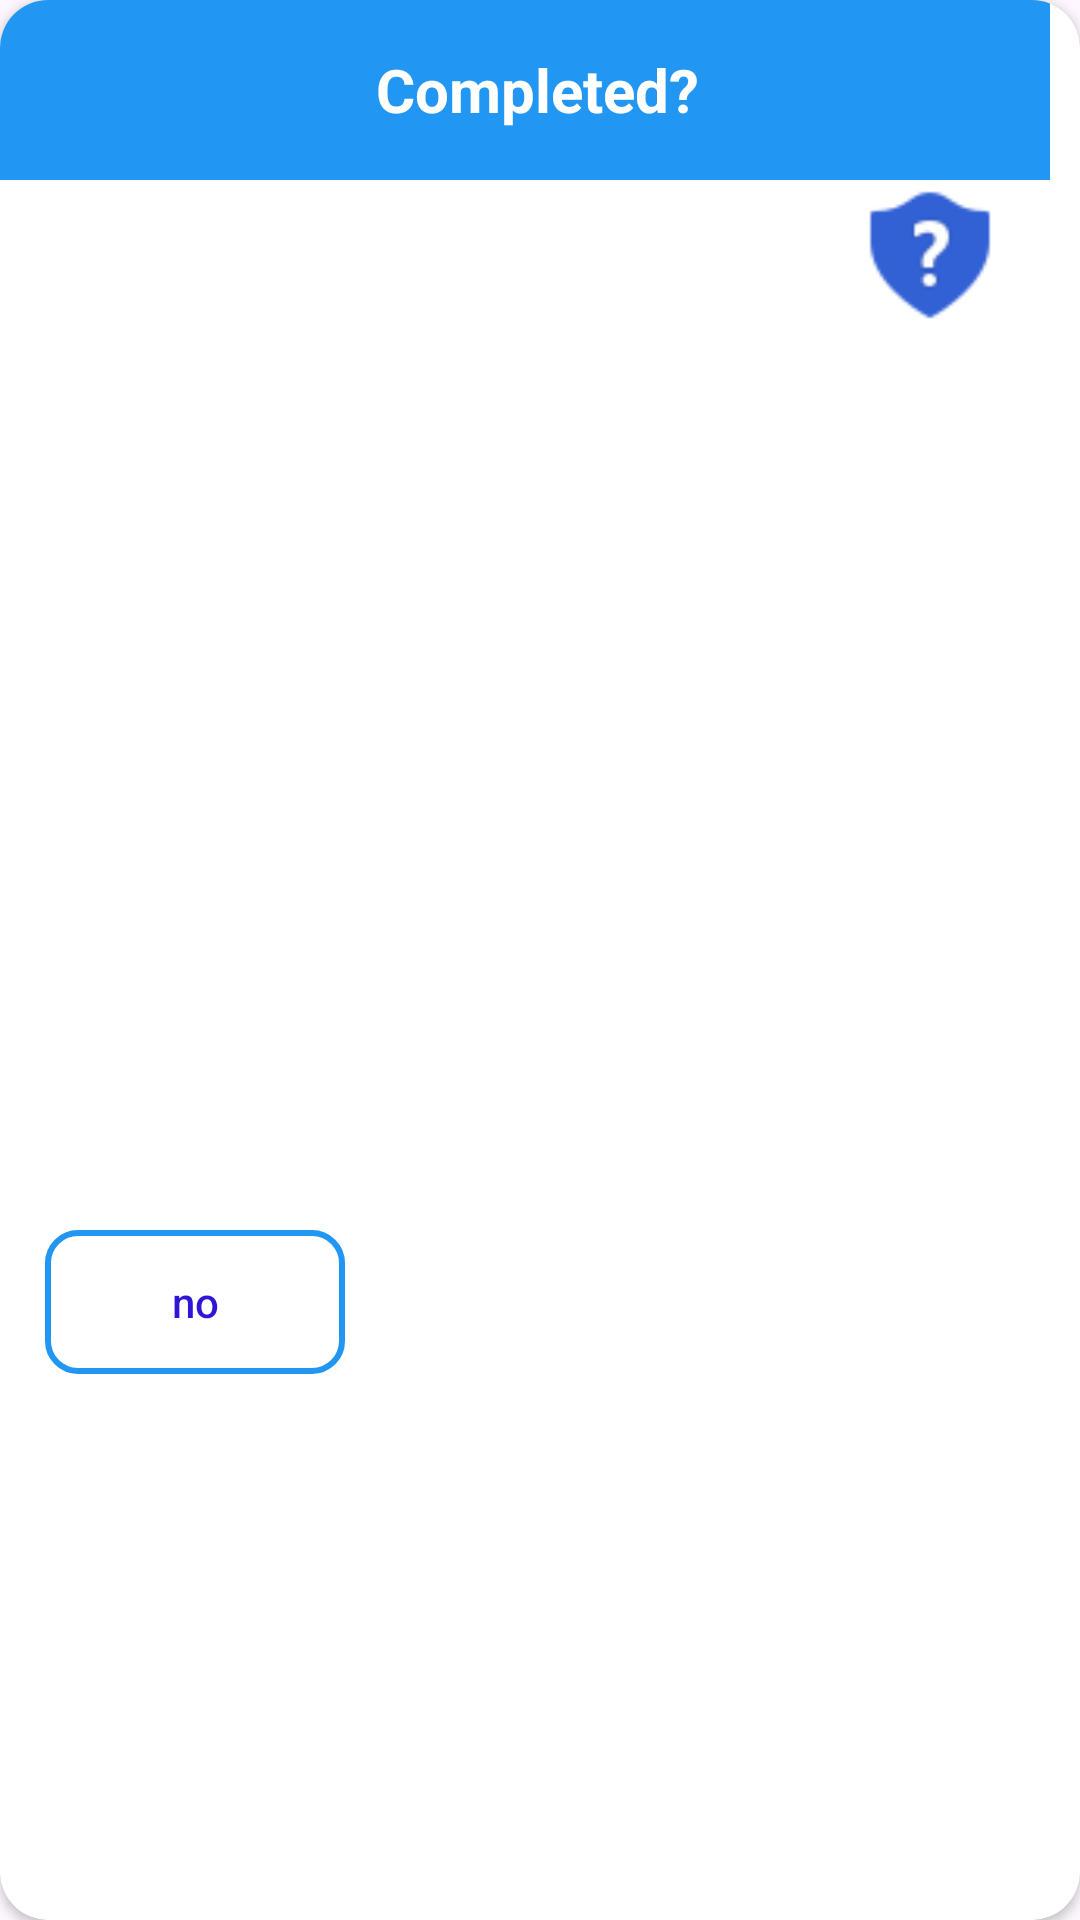

Where icons sit on this 1080*1920 app screen, as (x1, y1, x2, y2):
question: (869, 191, 991, 319)
